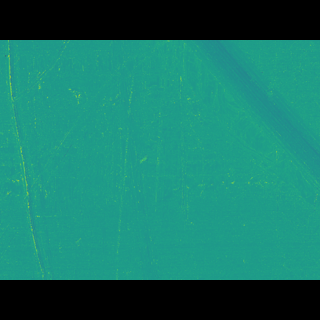Loch: (140, 67, 320, 196), (0, 127, 273, 198), (0, 68, 58, 250), (107, 69, 164, 250)
